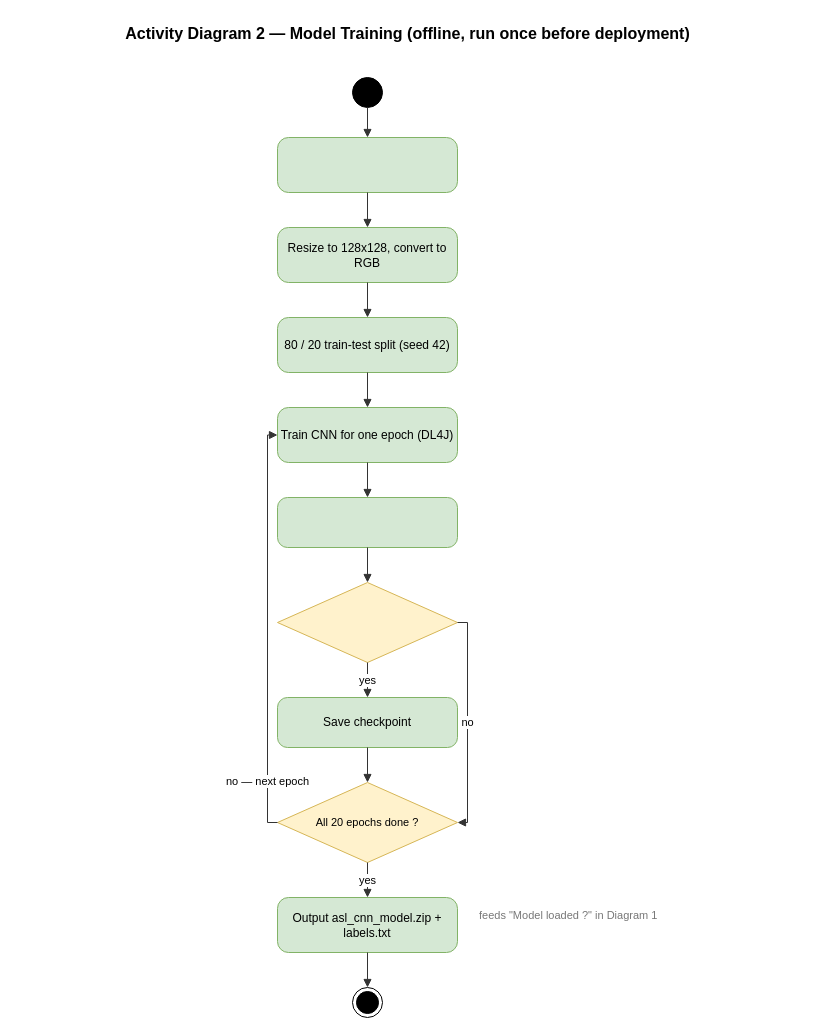
Image size: 814x1035. Some labels were removed from this diagram. The shapes that lost their labels are listed below. From the top down, each one's centre as x and y in pixels, then its label:
At [367,164]: "ASL-HG dataset 36 classes (A-Z, 0-9)".
At [367,522]: "Evaluate on test split".
At [367,622]: "Best accuracy so far ?".
